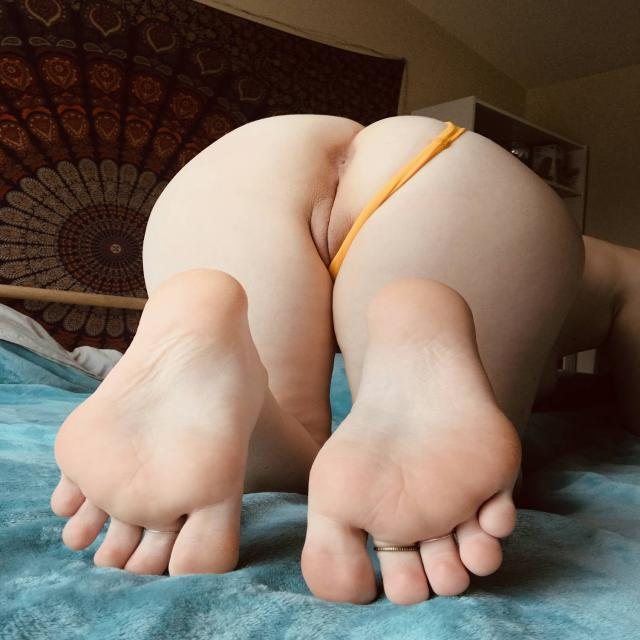Barefoots: (290, 276, 530, 614), (36, 258, 265, 582)
